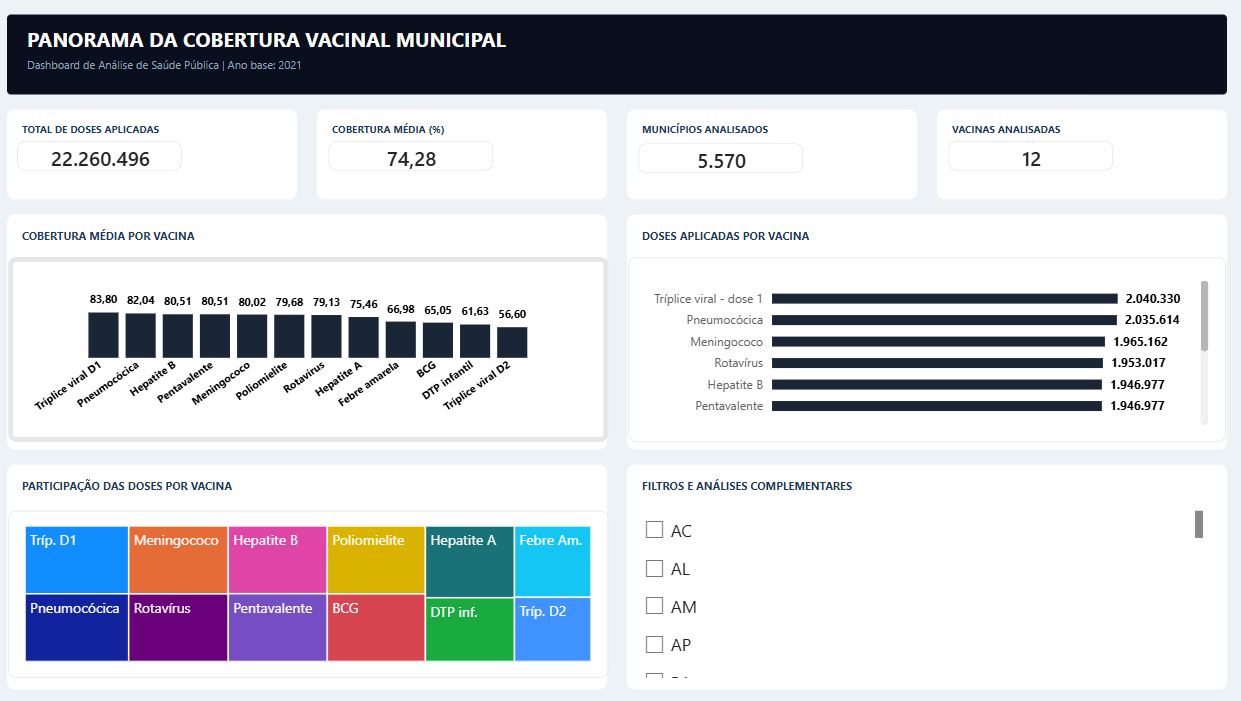

The dashboard page shown, as its layout file describes it:
{"tool":"powerbi","page":{"name":"Visão geral","canvas":[1920,1080],"ordinal":0},"visuals":[{"type":"cardVisual","fields":{"Data":["Medidas.Total Doses Cartao"]},"box":[360,323.8,165,30],"z":1000},{"type":"cardVisual","fields":{"Data":["Medidas.Cobertura Média %"]},"box":[671.2,323.8,165,30],"z":2000},{"type":"cardVisual","fields":{"Data":["Medidas.Municípios Analisados"]},"box":[981.2,326.2,165,30],"z":3000},{"type":"cardVisual","fields":{"Data":["Medidas.Vacinas Analisadas"]},"box":[1291.2,323.8,165,30],"z":4000},{"type":"columnChart","fields":{"Category":["DimVacina.Nome Vacina Exibição"],"Y":["Medidas.Cobertura Média %"]},"box":[351.2,440,600,185],"z":5000},{"type":"barChart","fields":{"Category":["DimVacina.nome_vacina"],"Y":["Medidas.Total de Doses"]},"box":[971.2,440,597.5,185],"z":6000},{"type":"treemap","fields":{"Group":["DimVacina.Nome Vacina Treemap"],"Values":["Medidas.Total de Doses"]},"box":[351.2,693.8,600,167.5],"z":7000},{"type":"slicer","fields":{"Values":["DimMunicipio.sigla_uf"]},"box":[981.2,693.8,565,167.5],"z":8000}]}

Visuals, with their boxes in screenshot pixels (x1, y1, x2, y2), scaled from the page's 1920x1080 canvas onto the 1241x701 screenshot:
cardVisual - Medidas.Total Doses Cartao: [233, 210, 339, 230]
cardVisual - Medidas.Cobertura Média %: [434, 210, 540, 230]
cardVisual - Medidas.Municípios Analisados: [634, 212, 741, 231]
cardVisual - Medidas.Vacinas Analisadas: [835, 210, 941, 230]
columnChart - DimVacina.Nome Vacina Exibição x Medidas.Cobertura Média %: [227, 286, 615, 406]
barChart - DimVacina.nome_vacina x Medidas.Total de Doses: [628, 286, 1014, 406]
treemap - DimVacina.Nome Vacina Treemap x Medidas.Total de Doses: [227, 450, 615, 559]
slicer - DimMunicipio.sigla_uf: [634, 450, 999, 559]
